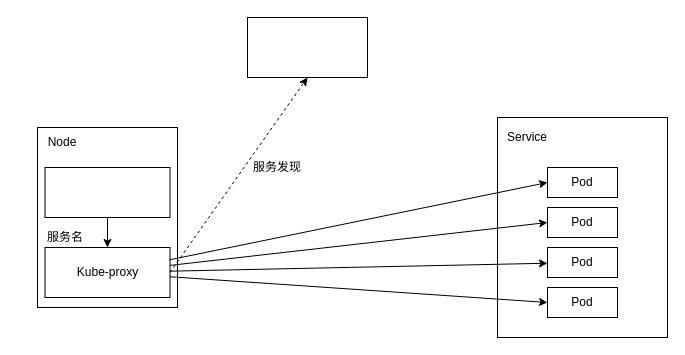
Some shapes in this 685 by 355 pixel diagram are drawn without their labels. The shapes that lost their labels are listed below. From the top down, each one's centre as x and y in pixels, then its label:
the point at 307,47: Kube-apiserver
the point at 107,192: 客户端应用
